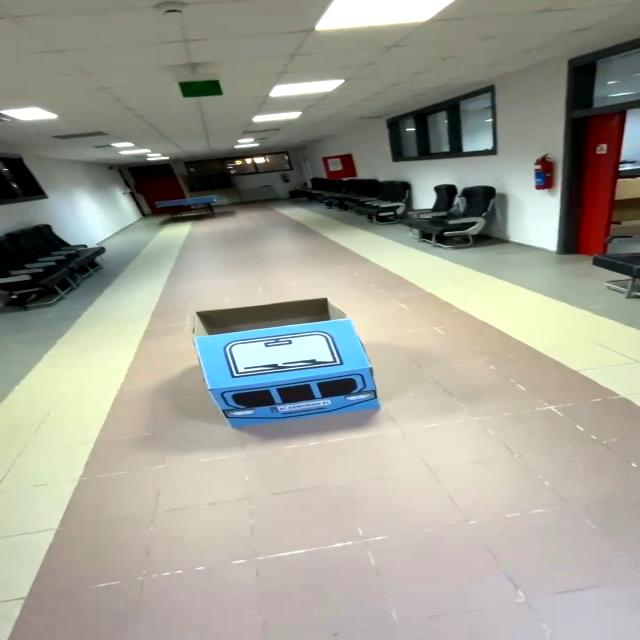blue_car: (158, 286, 414, 442)
